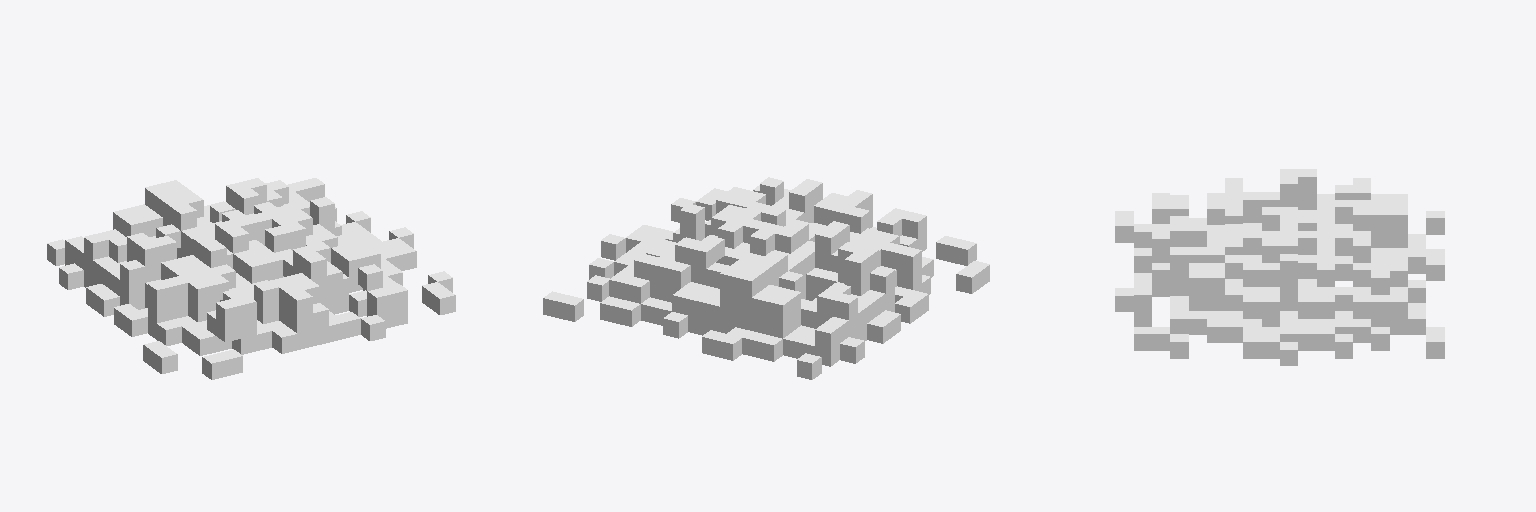
The model's file is campfireCenter.obj.
3 renders of one model, left to right at view 1: azimuth 30°, elevation 25°; view 2: azimuth 150°, elevation 25°; view 3: azimuth 270°, elevation 25°, orthographic.
Visible parts, largest first — view 1: campfireCenter; view 2: campfireCenter; view 3: campfireCenter.
Part boxes in pixels (bbox=[...]): campfireCenter: bbox=[47, 178, 455, 379]; campfireCenter: bbox=[543, 177, 989, 379]; campfireCenter: bbox=[1115, 169, 1444, 365].
Size of the model in its own units: 20 by 4 by 18.